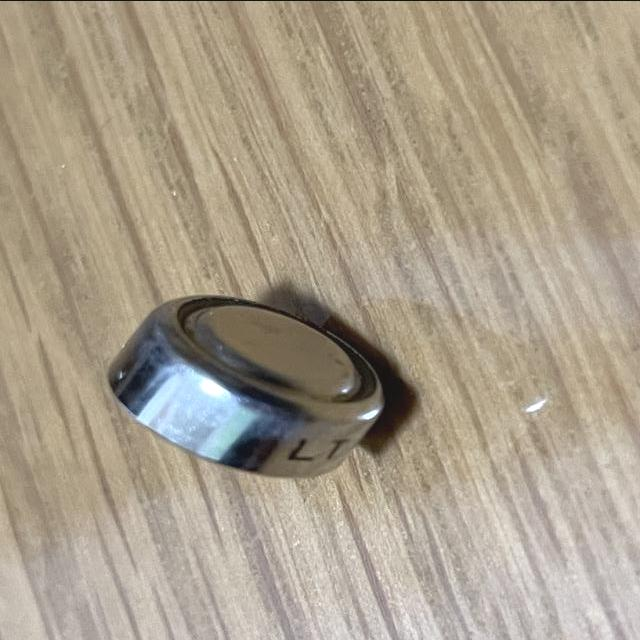COIN: (106, 294, 390, 476)
